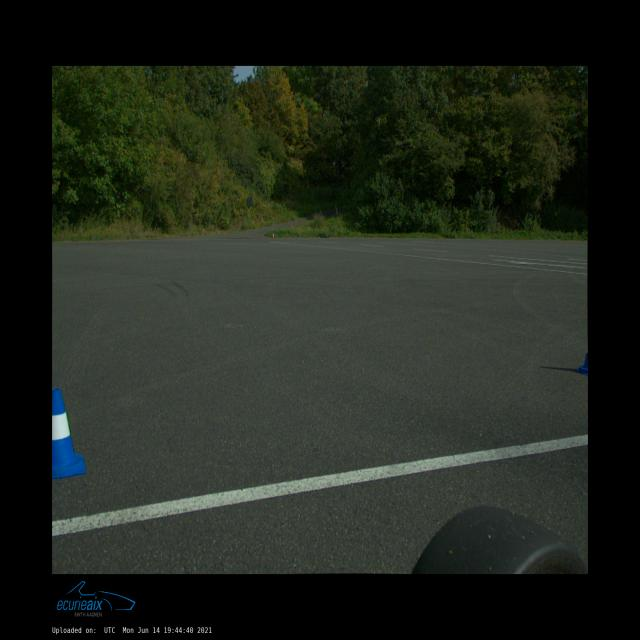blue_cone: (53, 389, 86, 478)
